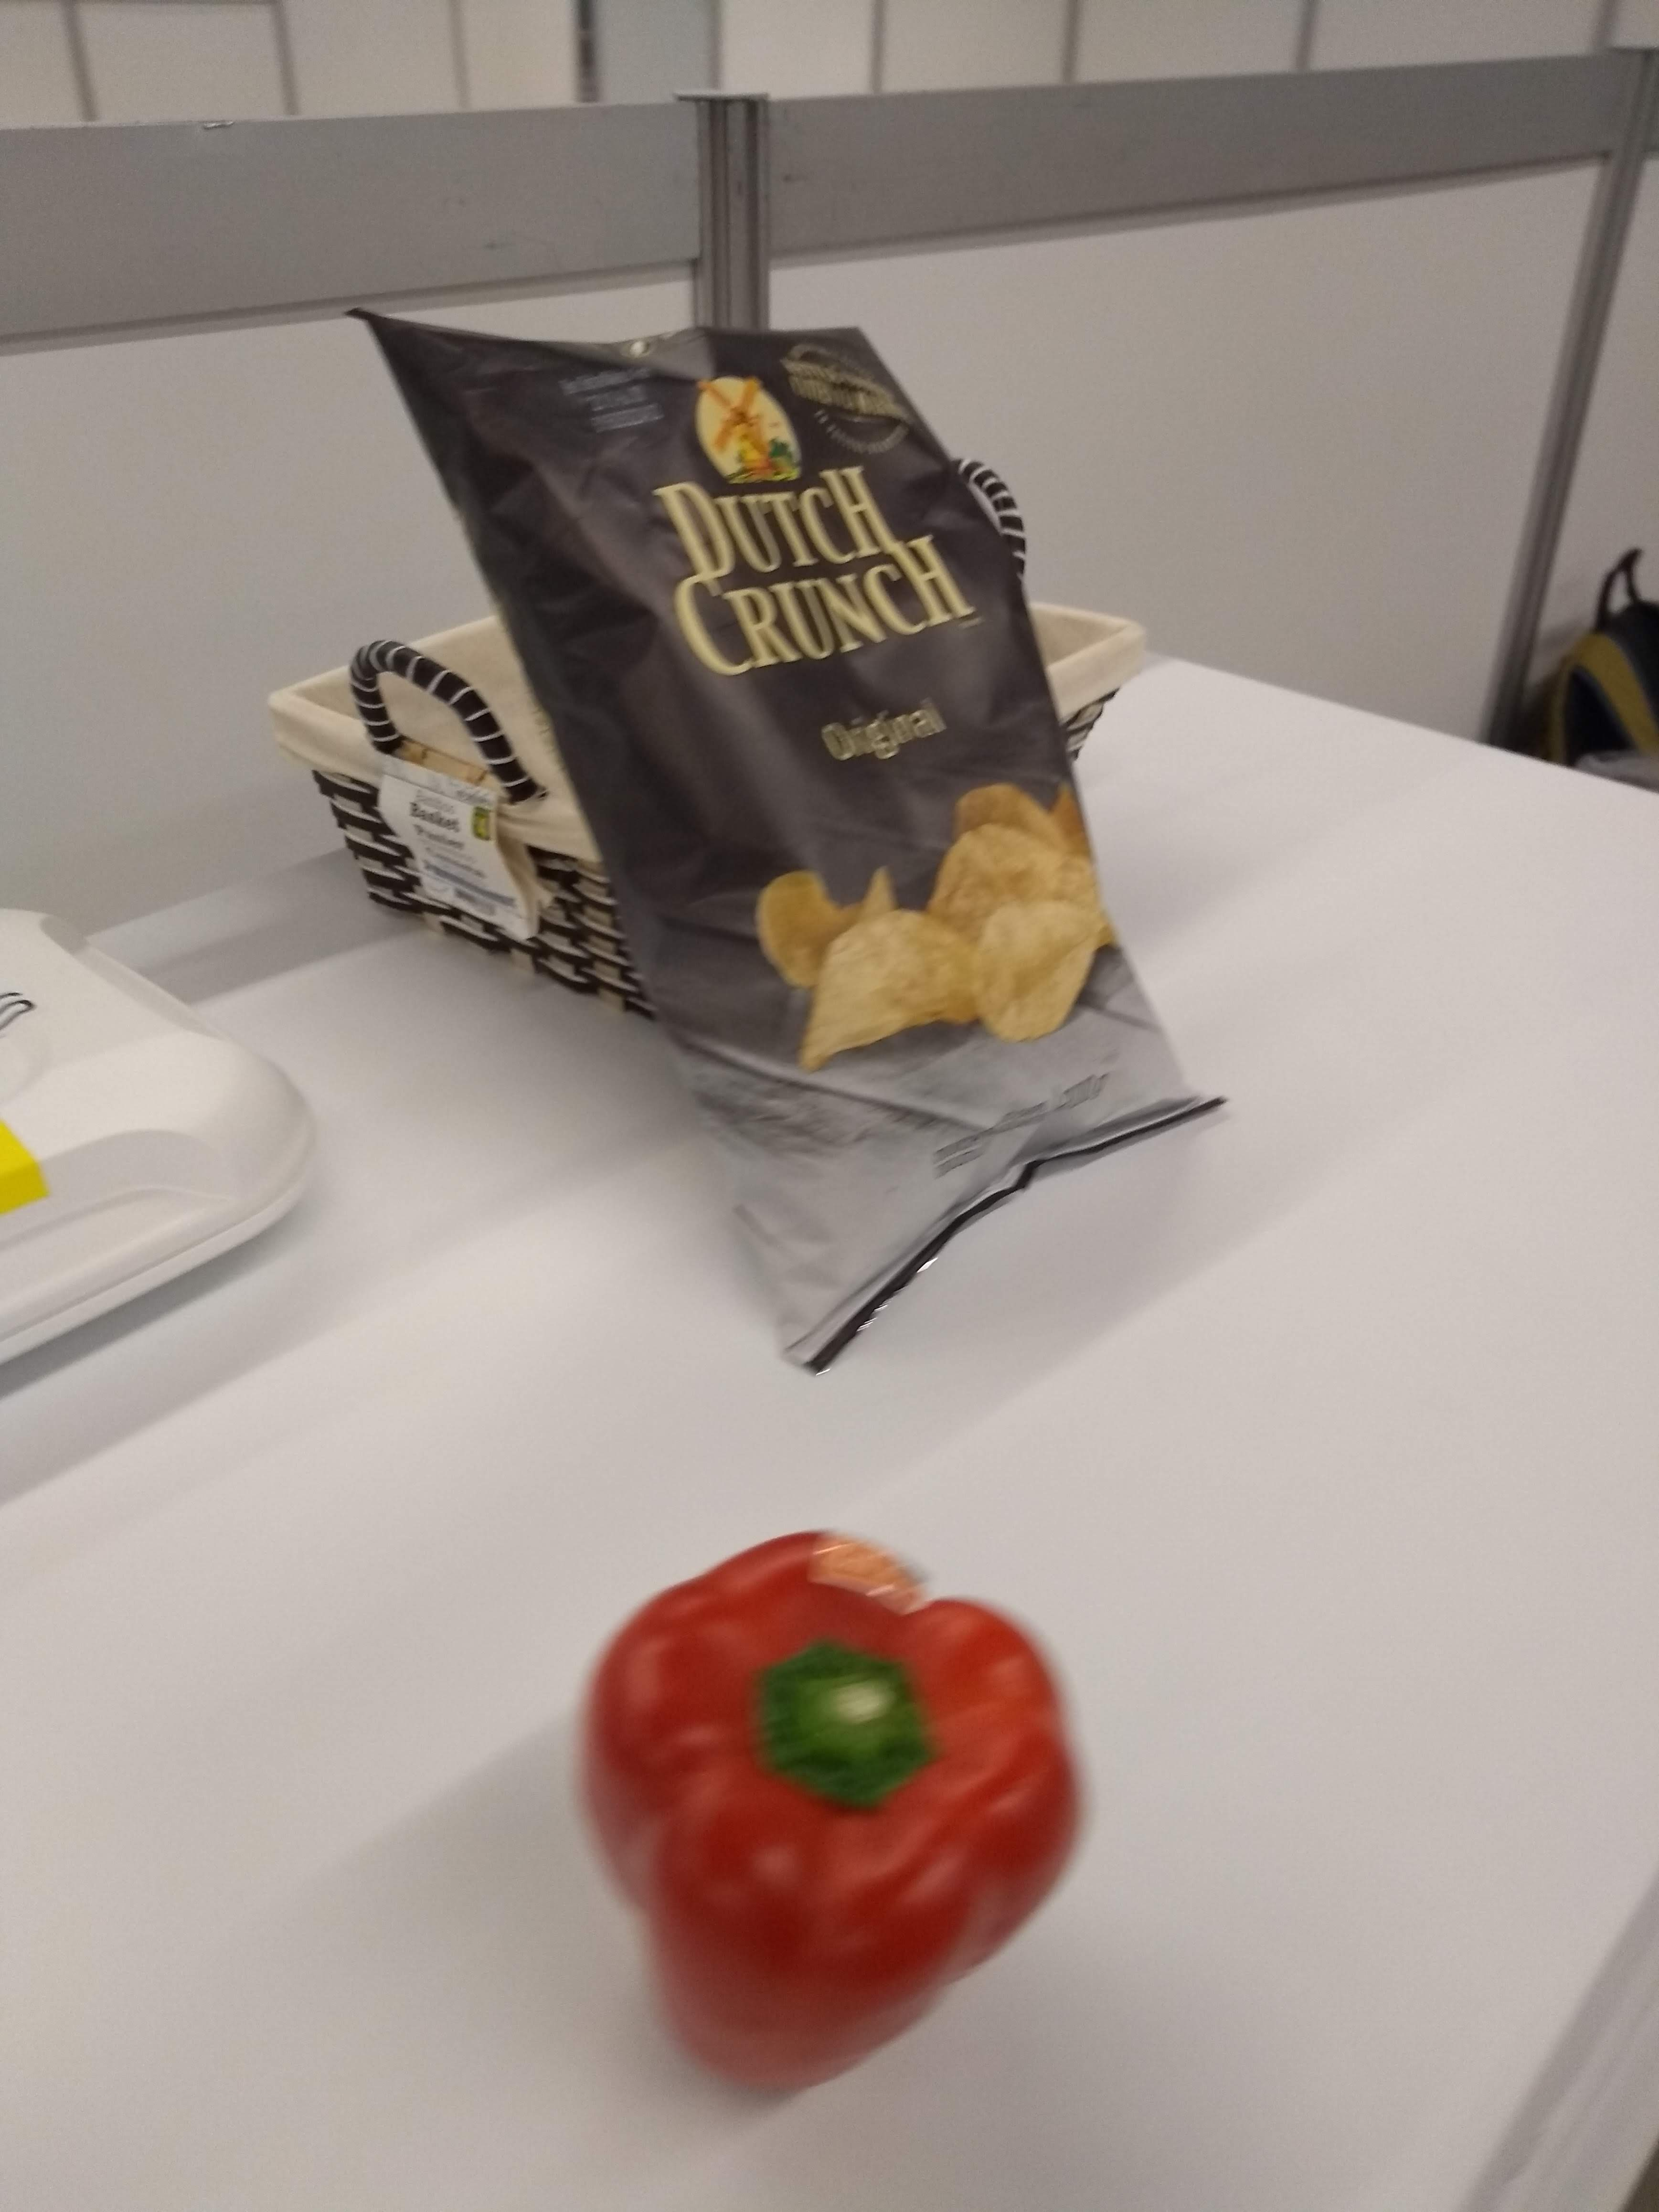paprika: (551, 1507, 1103, 2134)
potato_chips: (333, 293, 1237, 1374)
